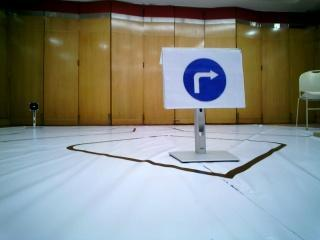right: (170, 56, 235, 106)
